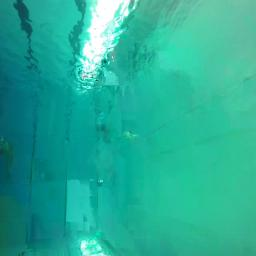Full: (97, 178, 103, 187)
